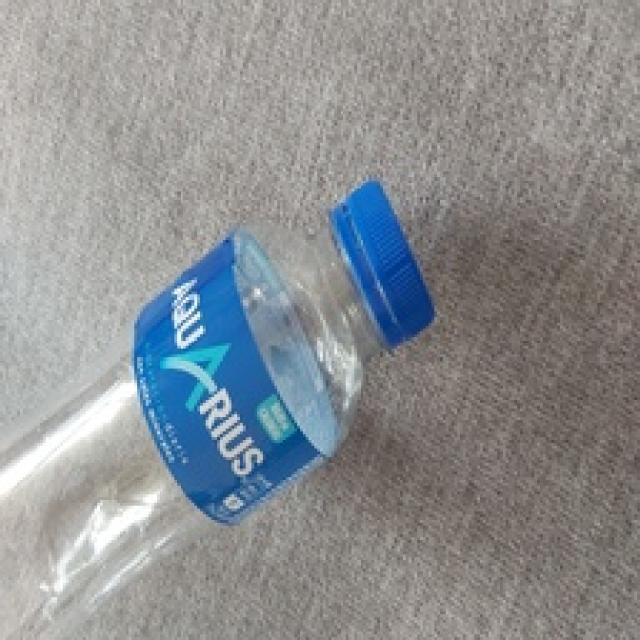Plastic: (0, 176, 435, 640)
